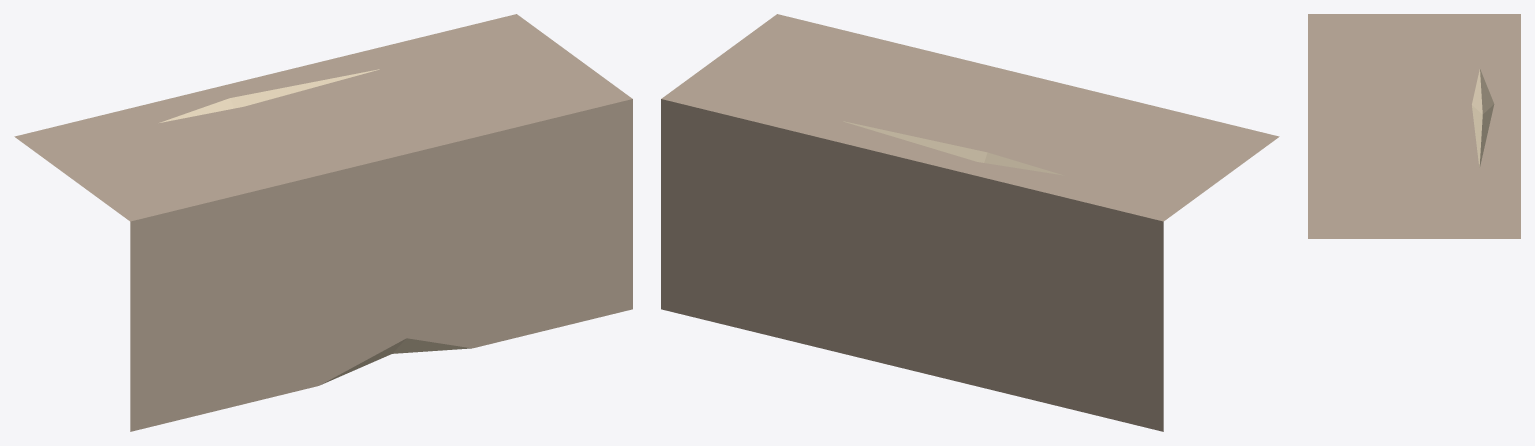
Rendered from Cave_Prop_Support_Ceiling_Beam_1.glb.
3 renders of one model, left to right at view 1: azimuth 30°, elevation 25°; view 2: azimuth 150°, elevation 25°; view 3: azimuth 270°, elevation 25°, orthographic. The views are drawn at different scales.
Parts seen in each view (by area): view 1: Cave_Prop_Support_Ceiling_Beam_1; view 2: Cave_Prop_Support_Ceiling_Beam_1; view 3: Cave_Prop_Support_Ceiling_Beam_1.
Boxes of the visible parts, x1,y1,x2,y2 form: Cave_Prop_Support_Ceiling_Beam_1: (14, 14, 632, 431); Cave_Prop_Support_Ceiling_Beam_1: (661, 14, 1279, 431); Cave_Prop_Support_Ceiling_Beam_1: (1308, 14, 1520, 238).
Bounding box in the file's own units: 1 × 0.4 × 0.4.
